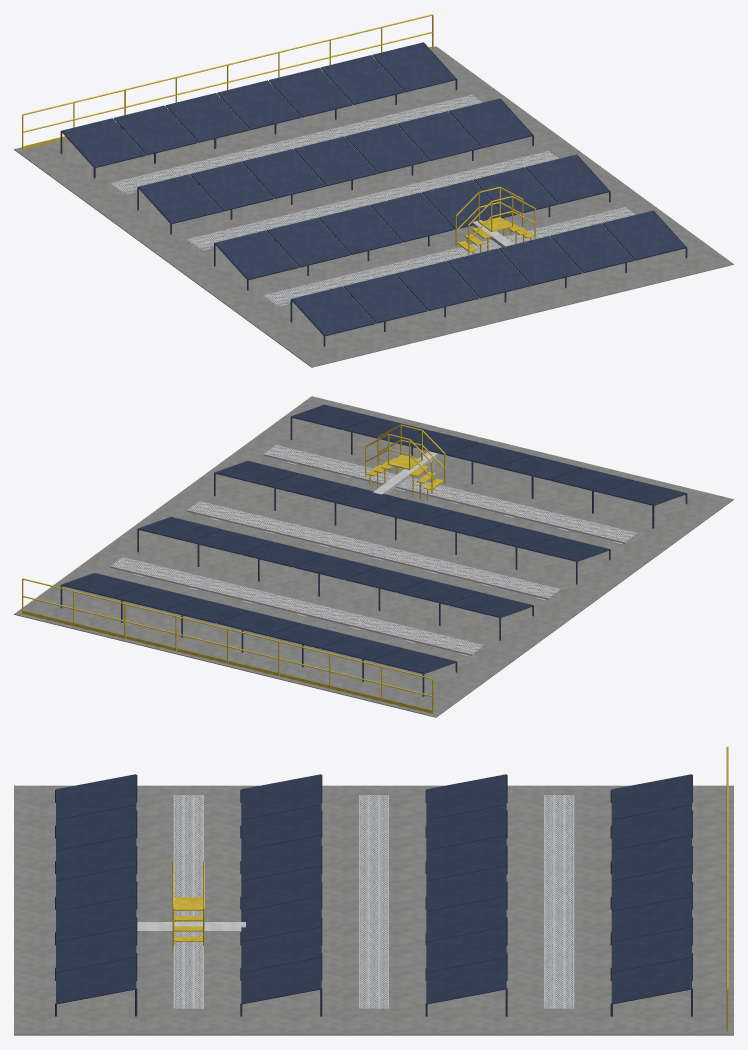
Rendered from solar-walkway.glb.
3 views of the same model, one above another, from view 1: azimuth 30°, elevation 25°; view 2: azimuth 150°, elevation 25°; view 3: azimuth 270°, elevation 25° (orthographic). The views are drawn at different scales.
Parts seen in each view (by area): view 1: SolarArray(context), Roof(context), Grip-StrutPlanks, Anti-SlipFace, EdgeHandrail, AllstepCrossover; view 2: Roof(context), SolarArray(context), Grip-StrutPlanks, Anti-SlipFace, EdgeHandrail, AllstepCrossover, CableTray(context), PedestalSupports; view 3: Roof(context), SolarArray(context), Grip-StrutPlanks, Anti-SlipFace, AllstepCrossover, CableTray(context), EdgeHandrail.
Part boxes in pixels (x1,y1,x2,y2): SolarArray(context): [60, 42, 687, 346]; Roof(context): [14, 46, 733, 367]; Grip-StrutPlanks: [110, 95, 635, 305]; Anti-SlipFace: [111, 96, 631, 303]; EdgeHandrail: [22, 14, 433, 149]; AllstepCrossover: [455, 186, 535, 254]; Roof(context): [14, 396, 733, 717]; SolarArray(context): [60, 404, 687, 696]; Grip-StrutPlanks: [110, 445, 637, 655]; Anti-SlipFace: [112, 446, 635, 653]; EdgeHandrail: [22, 578, 433, 713]; AllstepCrossover: [365, 424, 445, 500]; CableTray(context): [373, 451, 438, 494]; PedestalSupports: [133, 461, 622, 656]; Roof(context): [14, 785, 733, 1035]; SolarArray(context): [55, 774, 692, 1016]; Grip-StrutPlanks: [173, 795, 574, 1009]; Anti-SlipFace: [175, 795, 572, 1008]; AllstepCrossover: [172, 861, 204, 953]; CableTray(context): [137, 922, 245, 931]; EdgeHandrail: [726, 746, 728, 1031].
Size of the model in its own units: 14 by 1.85 by 17.1.
7 materials, 7 textured.
